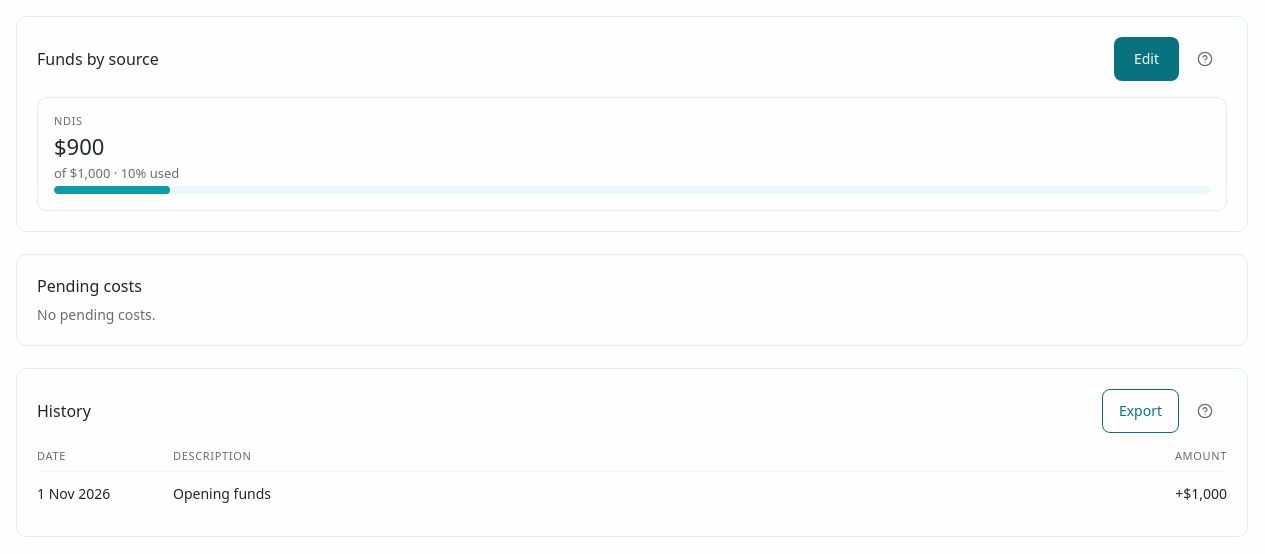
Test: Family info tips › [FAM-17][AC-08] Budget 'Edit' and History 'Export' each have a tip with their help text
Click the button named "About Edit": click(1205, 59) [1183,37,1227,81]
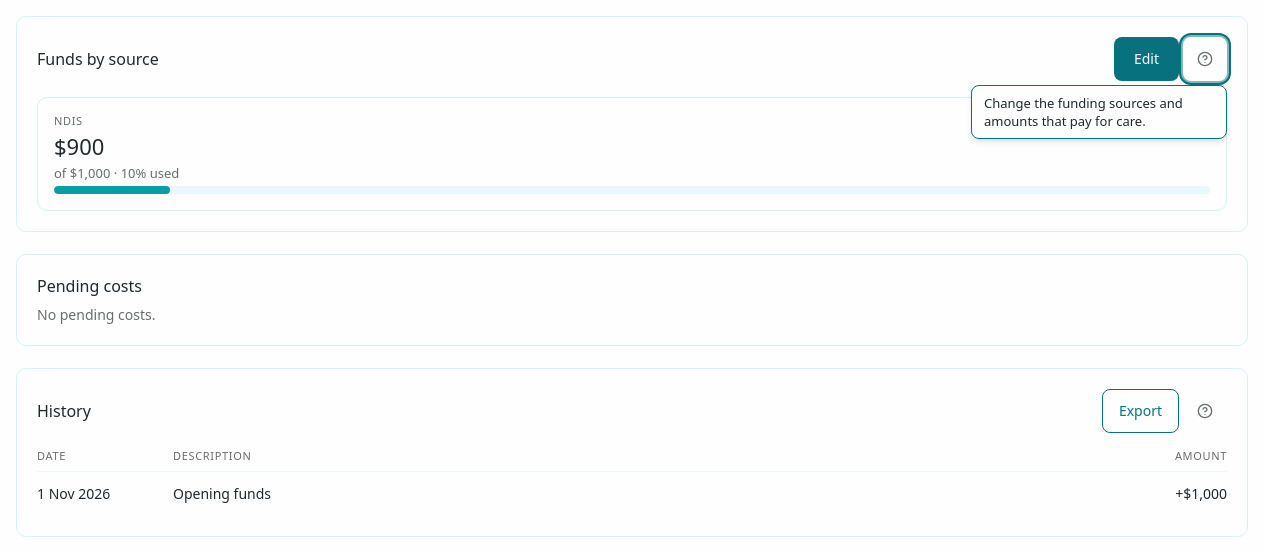
Expected: the tooltip reads "Change the funding sources and amounts that pay for care.", [984,94,1183,130]
Click the button named "About Export": click(1205, 411) [1183,389,1227,433]
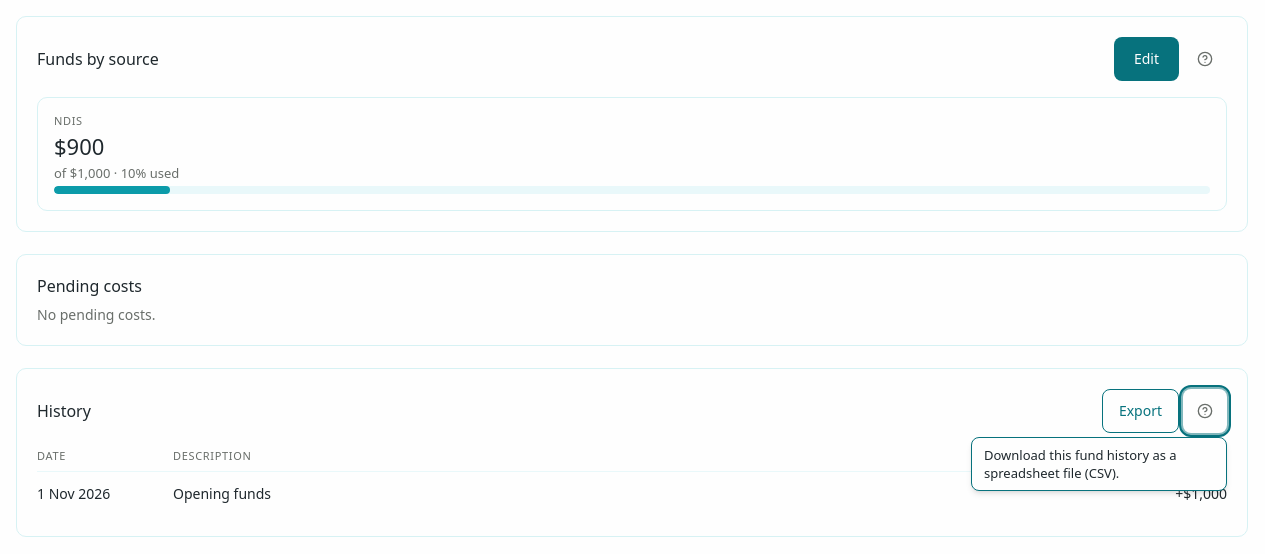
Expected: the number of tooltips is 1, [971,437,1227,491]
Expected: the tooltip reads "Download this fund history as a spreadsheet file (CSV).", [984,446,1177,482]
